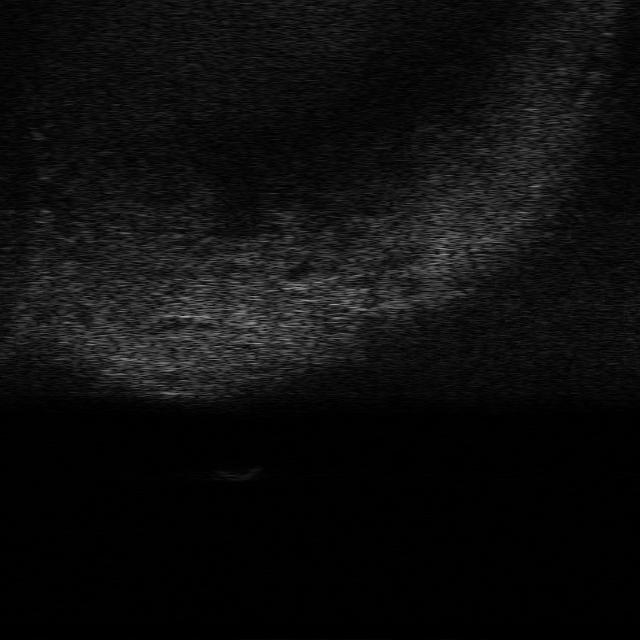cube: (213, 458, 265, 483)
